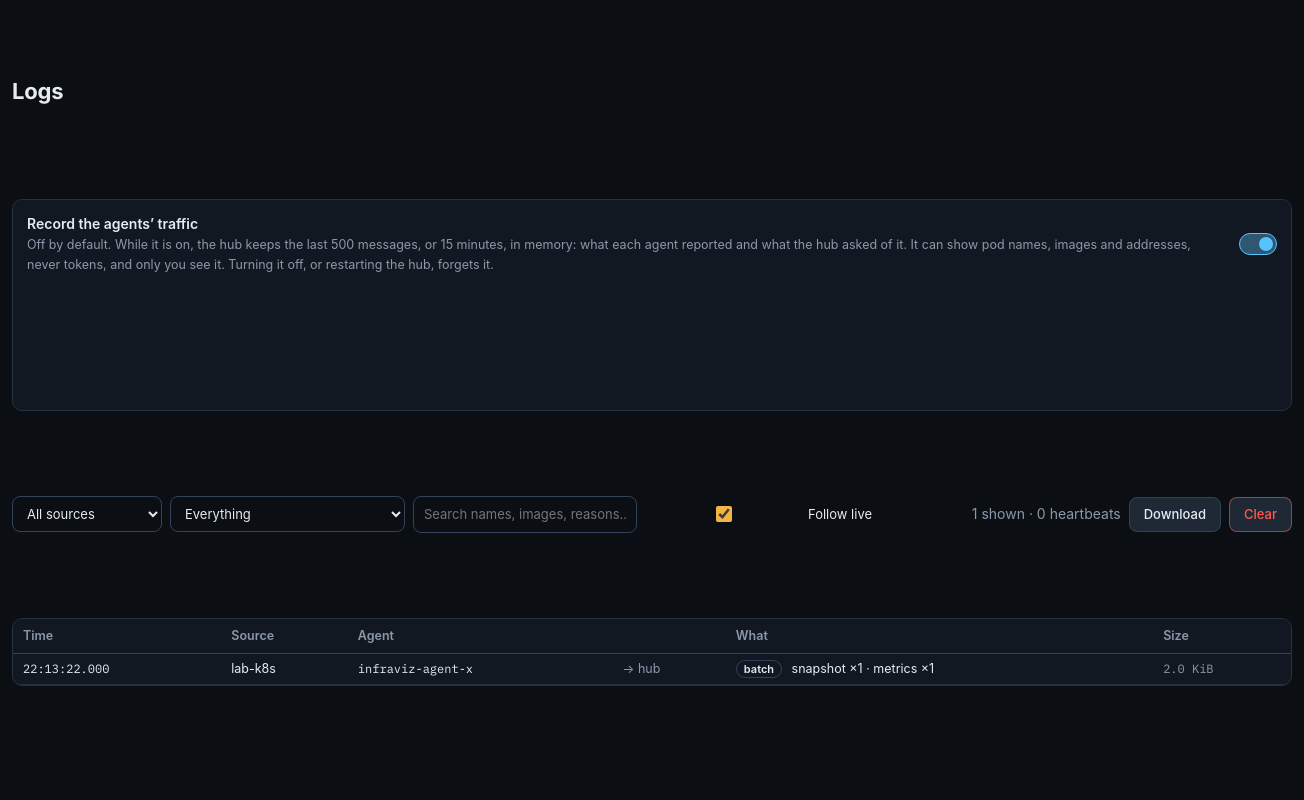
Test: the communication log page › says so when the entry has already fallen out of the log
The image size is (1304, 800).
Click the text "snapshot ×1 · metrics ×1": (940, 669) [726,653,1153,684]
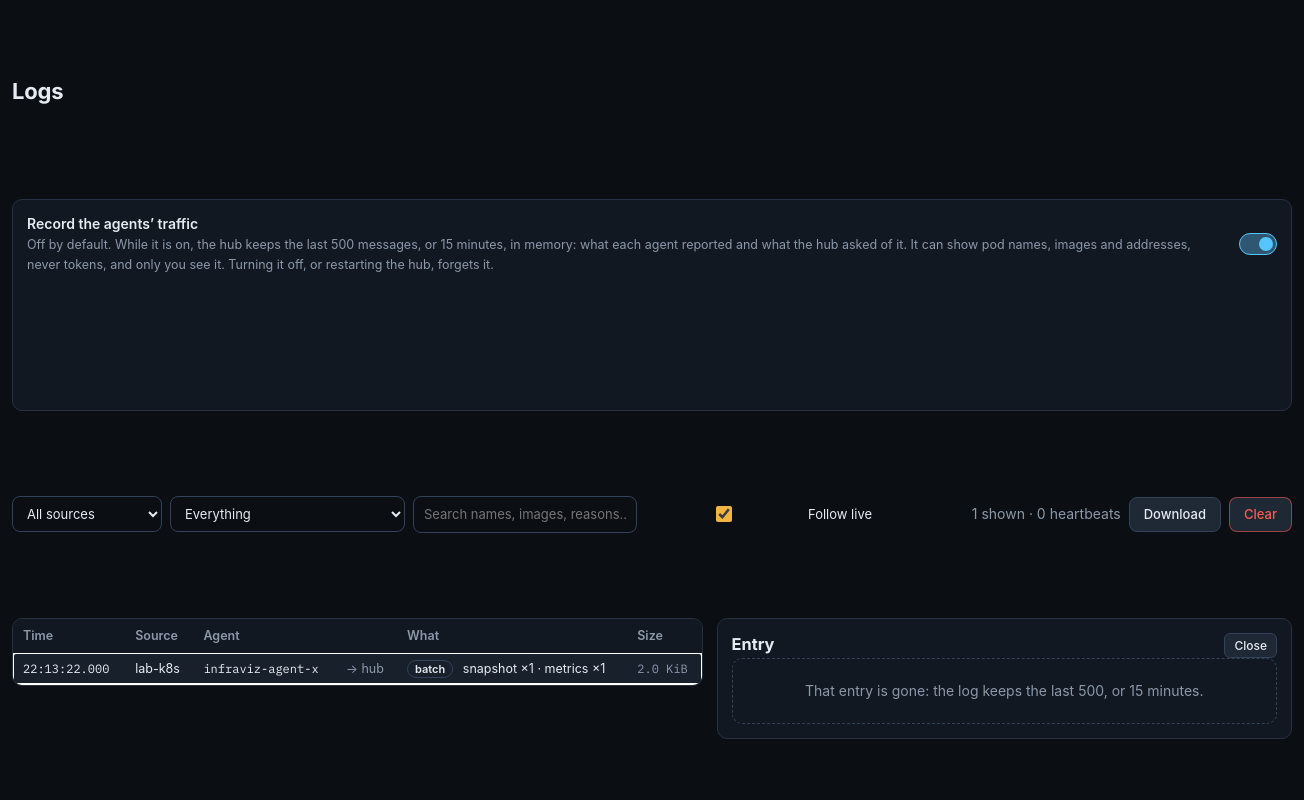
Result: the text "That entry is gone" is shown at [805,682,1078,699]
